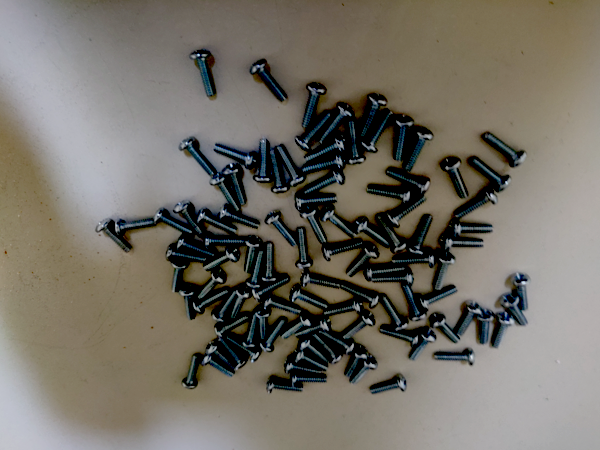shortscrew: (483, 131, 527, 167), (178, 136, 216, 177), (250, 60, 287, 102), (318, 102, 355, 144), (470, 156, 513, 192), (360, 109, 393, 154), (297, 110, 332, 151), (454, 189, 498, 220), (358, 92, 387, 138), (405, 126, 434, 171), (385, 196, 427, 227), (96, 218, 133, 253), (321, 205, 359, 238), (442, 156, 470, 200), (191, 51, 217, 98), (302, 82, 327, 130), (277, 145, 306, 186), (354, 217, 391, 249), (377, 214, 407, 253), (265, 211, 297, 247), (387, 170, 431, 196), (304, 168, 346, 195), (174, 201, 204, 238), (210, 174, 240, 211), (154, 209, 195, 236), (305, 136, 347, 162), (251, 275, 291, 302), (214, 145, 258, 169), (220, 163, 245, 205), (430, 312, 462, 344), (302, 152, 346, 175), (225, 335, 261, 363), (409, 214, 433, 256), (218, 205, 260, 229), (342, 283, 380, 309), (417, 287, 456, 312), (322, 239, 364, 262), (203, 246, 240, 272), (218, 336, 248, 368), (449, 217, 494, 238), (260, 317, 286, 353), (313, 333, 343, 364), (206, 342, 238, 371), (198, 269, 227, 301), (298, 336, 330, 365), (214, 314, 251, 339), (409, 328, 437, 361), (343, 312, 376, 340), (253, 138, 273, 184), (395, 115, 415, 161), (290, 287, 330, 310), (197, 210, 237, 233), (455, 302, 482, 336), (402, 286, 427, 322), (501, 294, 528, 327), (192, 290, 229, 314), (491, 312, 515, 349), (368, 186, 412, 206), (269, 149, 289, 193), (262, 293, 302, 315), (115, 217, 157, 237), (166, 244, 208, 264), (380, 327, 420, 348), (434, 253, 456, 291), (344, 346, 370, 378), (363, 263, 406, 282), (294, 192, 337, 211), (349, 118, 366, 166), (350, 356, 378, 385), (301, 270, 341, 290), (212, 291, 237, 323), (323, 298, 364, 317), (371, 268, 414, 286), (434, 349, 476, 367), (393, 250, 435, 268), (201, 354, 235, 376), (294, 349, 328, 371), (181, 353, 201, 390), (370, 375, 407, 395), (440, 235, 483, 252), (296, 227, 313, 270), (261, 242, 278, 284), (244, 236, 263, 273), (512, 273, 530, 311), (171, 258, 190, 293), (180, 285, 198, 321), (285, 358, 323, 375), (231, 286, 251, 318), (477, 309, 494, 346), (267, 378, 304, 393), (291, 372, 327, 386)
